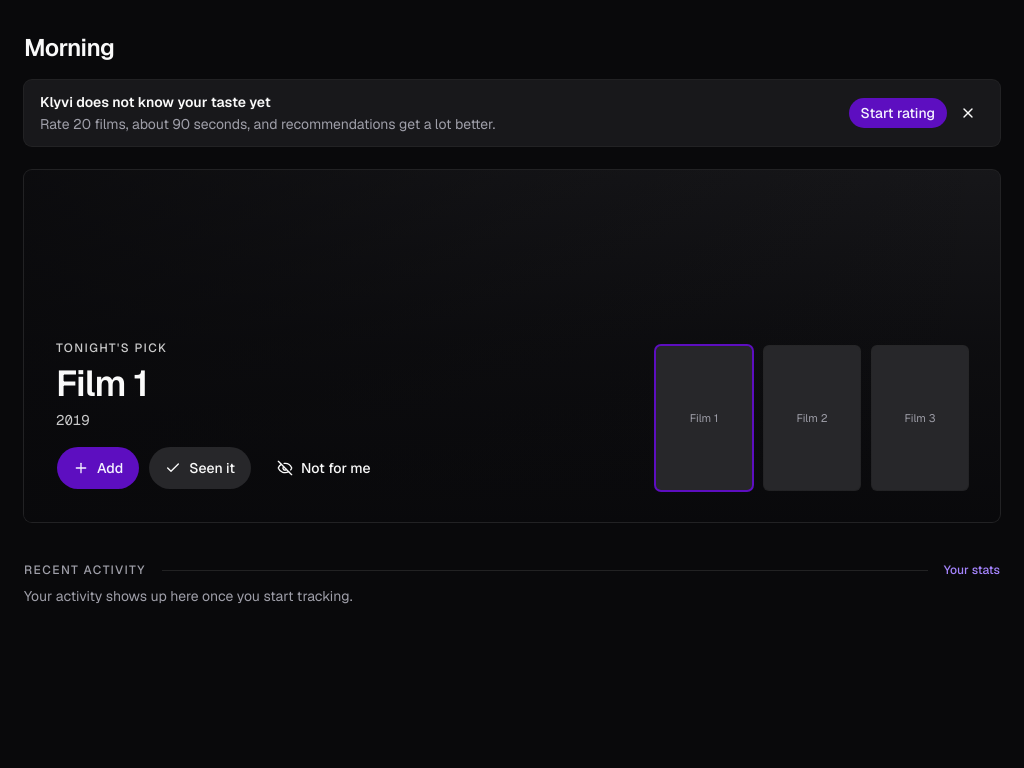
HomeClient › the hero › adds the pick to the watchlist and brings in the next one
Expected: the element "Tonight's pick" is shown, x1=24 y1=170 x2=1000 y2=522
Click the button "Add" at {"x": 98, "y": 468}, box x1=56 y1=446 x2=140 y2=490
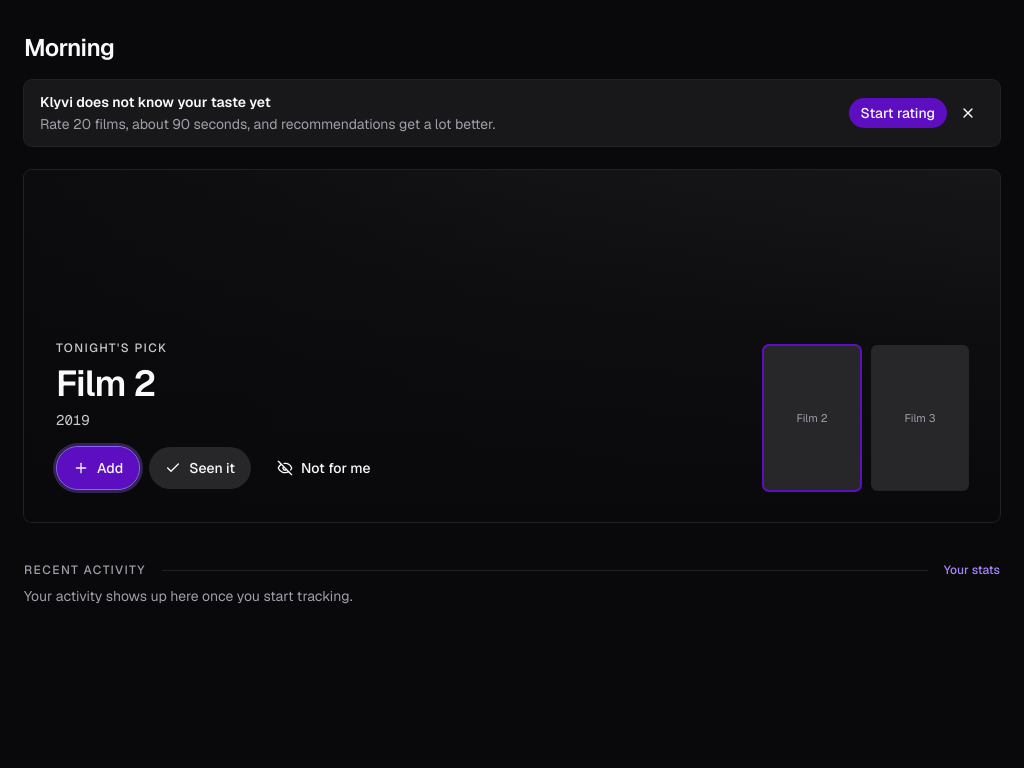
Now the heading "Film 2" is shown, box x1=56 y1=360 x2=155 y2=407
